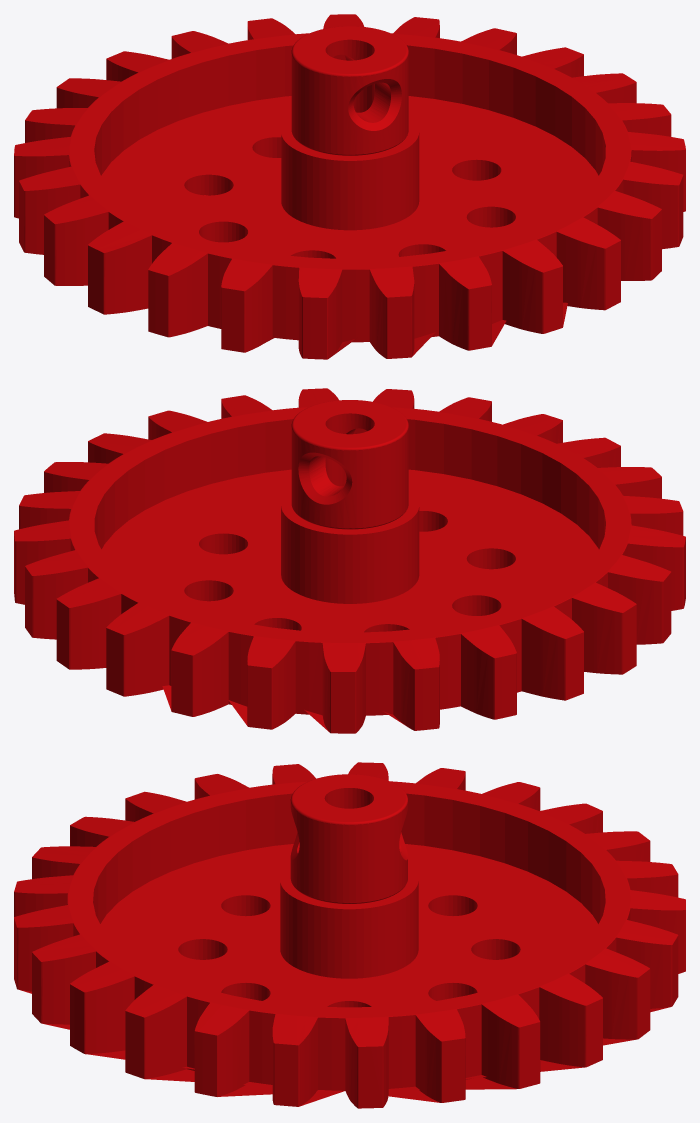
Rendered from Gear_24_Do.glb.
3 renders of one model, top to bottom at view 1: azimuth 30°, elevation 25°; view 2: azimuth 150°, elevation 25°; view 3: azimuth 270°, elevation 25°, orthographic.
Parts seen in each view (by area): view 1: defaultobject; view 2: defaultobject; view 3: defaultobject.
Boxes of the visible parts, <box> form: defaultobject: <box>14,14,685,359</box>; defaultobject: <box>14,388,685,733</box>; defaultobject: <box>14,762,685,1108</box>.
Size of the model in its own units: 136 by 38.59 by 135.
